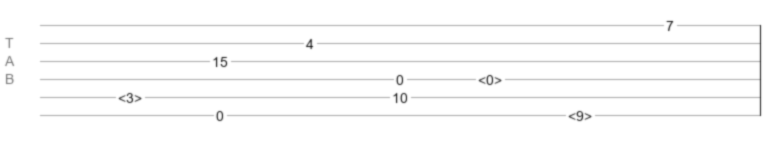0: (216, 108, 224, 118), (396, 72, 404, 82)
10: (392, 90, 408, 100)
15: (212, 54, 228, 64)
4: (306, 36, 314, 46)
7: (666, 18, 674, 28)
harmonic: (118, 90, 142, 100), (478, 72, 502, 82), (568, 108, 592, 118)
